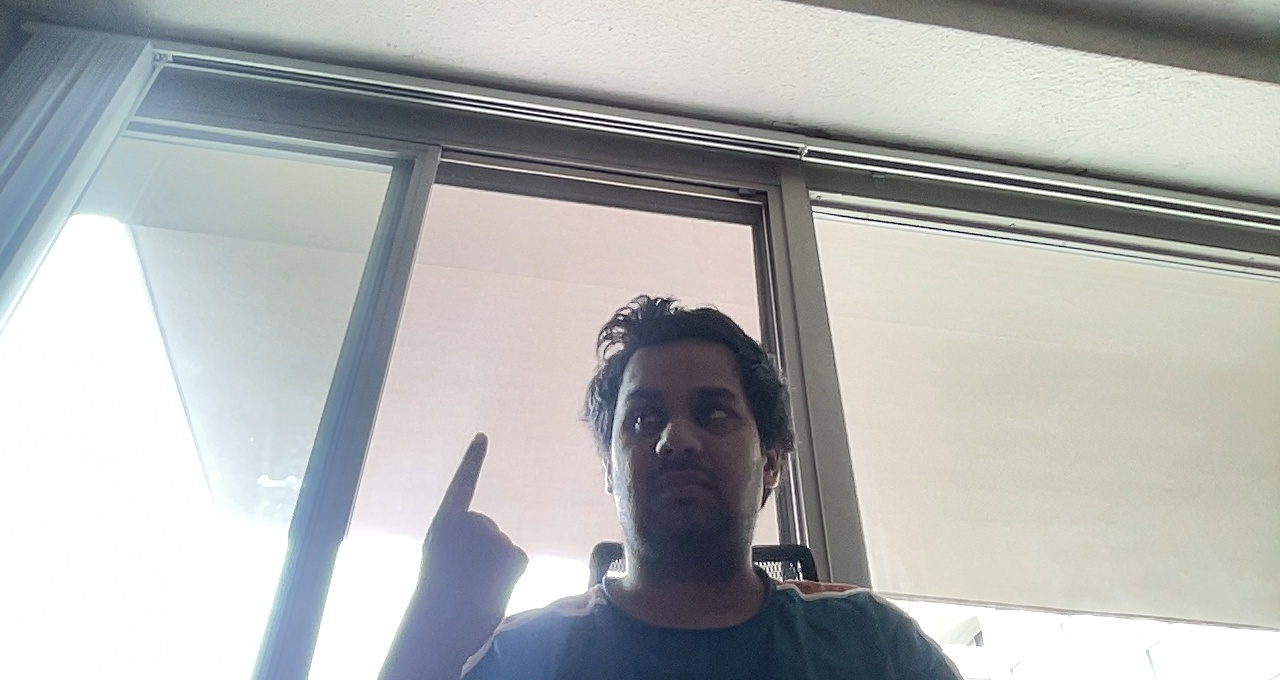fingerup: (409, 428, 538, 663)
